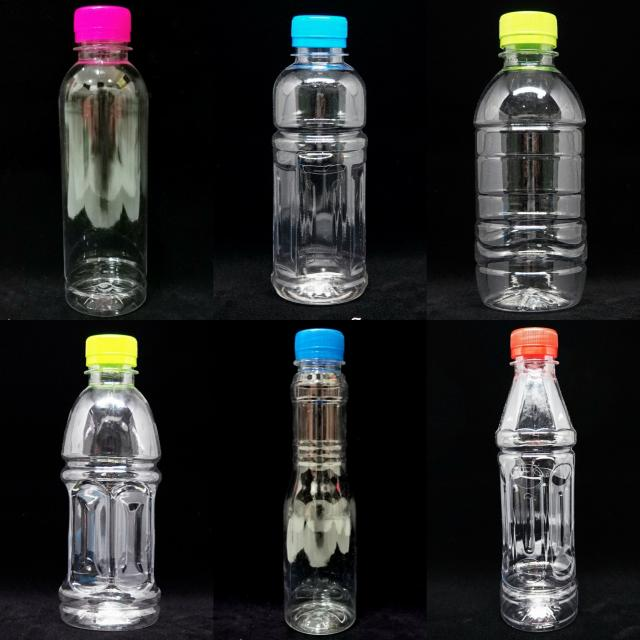plastik: (474, 11, 588, 311), (59, 334, 160, 630), (271, 15, 368, 305), (59, 5, 149, 316), (495, 328, 578, 632), (284, 329, 356, 634)
